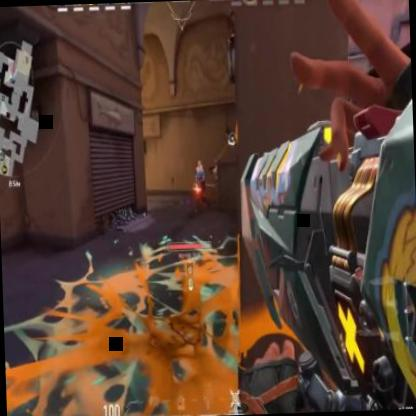enemy: (193, 159, 206, 208), (211, 157, 222, 202)
enemy_head: (198, 160, 202, 170), (214, 158, 218, 166)
